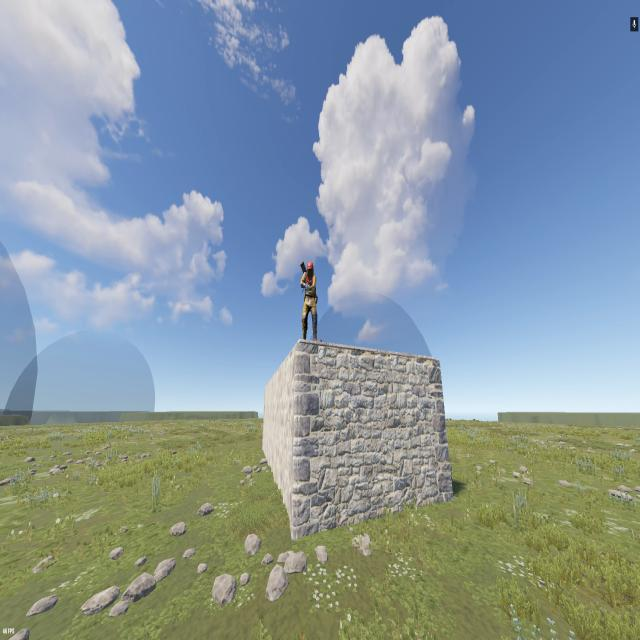Player: (300, 262, 319, 338)
